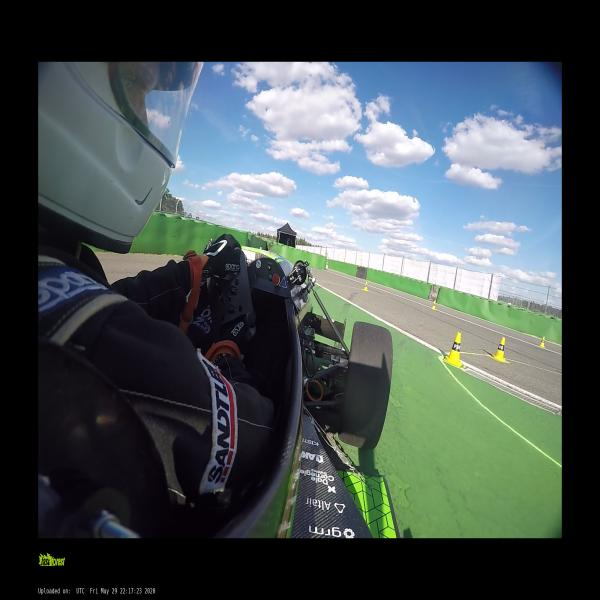yellow_cone: (442, 332, 464, 367), (490, 336, 508, 364), (538, 337, 546, 348), (430, 301, 436, 310), (363, 282, 368, 291)
